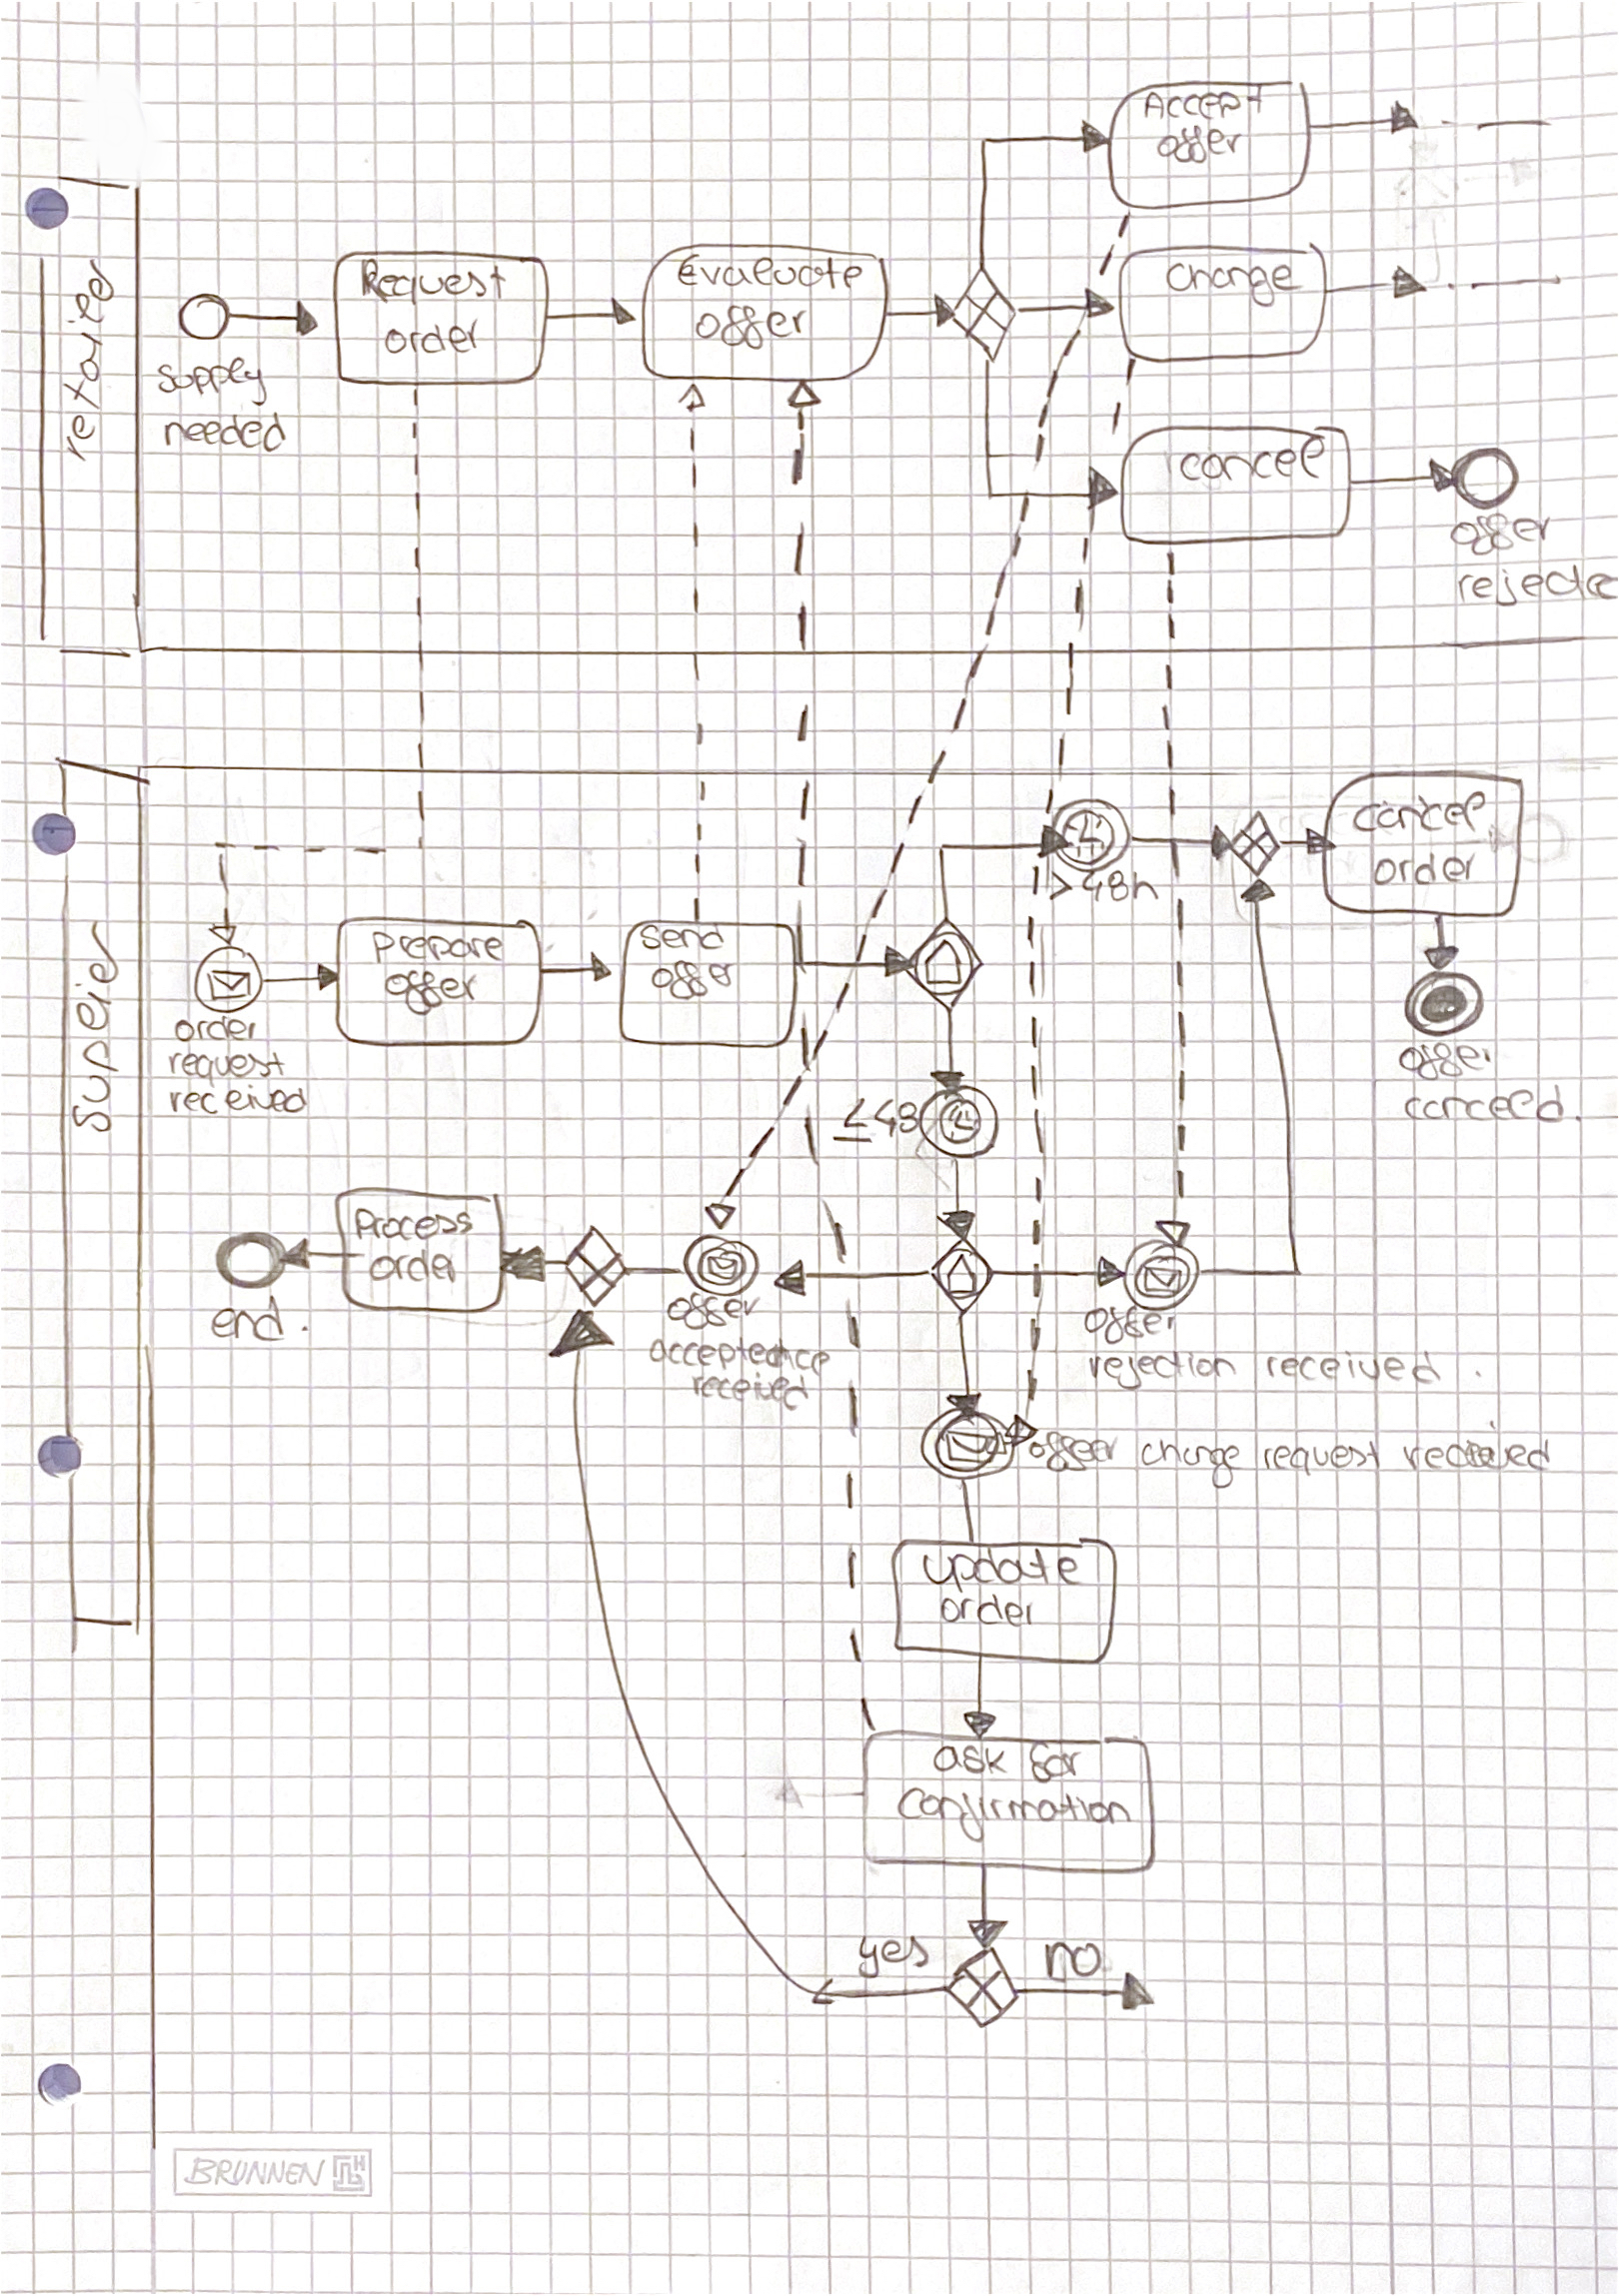<=48: (827, 1093, 920, 1149)
>48h: (1044, 867, 1163, 905)
Accept: (1144, 88, 1265, 124)
Change: (1167, 257, 1298, 299)
Evaluate: (671, 250, 864, 294)
Process: (357, 1207, 471, 1243)
Request: (350, 257, 506, 306)
Supply: (151, 357, 266, 401)
acceptance: (647, 1335, 836, 1377)
ask: (946, 1741, 1009, 1783)
cancel: (1179, 440, 1325, 487), (1351, 788, 1493, 835)
canceled: (1393, 1086, 1565, 1124)
change: (1130, 1433, 1242, 1487)
confirmation: (894, 1785, 1137, 1830)
end: (203, 1294, 294, 1345)
for: (1020, 1739, 1090, 1785)
needed: (154, 410, 300, 459)
no: (1036, 1932, 1100, 1979)
offer: (692, 301, 808, 350), (1072, 1303, 1184, 1343), (1393, 1042, 1500, 1082), (643, 954, 741, 998), (1451, 513, 1554, 553), (1027, 1427, 1118, 1473), (661, 1287, 759, 1328), (1160, 126, 1248, 165), (380, 974, 475, 1005)
order: (1367, 851, 1482, 890), (166, 1009, 266, 1051), (382, 317, 482, 359), (364, 1249, 459, 1289), (941, 1595, 1036, 1629)
prepare: (370, 925, 508, 967)
received: (1258, 1343, 1439, 1392), (1403, 1415, 1551, 1471), (687, 1370, 824, 1412), (172, 1081, 301, 1114)
rejected: (1458, 559, 1617, 609)
rejection: (1081, 1345, 1241, 1389)
request: (1255, 1434, 1381, 1476), (173, 1046, 280, 1079)
retailer: (51, 270, 119, 462)
send: (643, 925, 724, 954)
supplier: (58, 923, 124, 1135)
update: (922, 1548, 1076, 1588)
yes: (853, 1926, 937, 1981)
